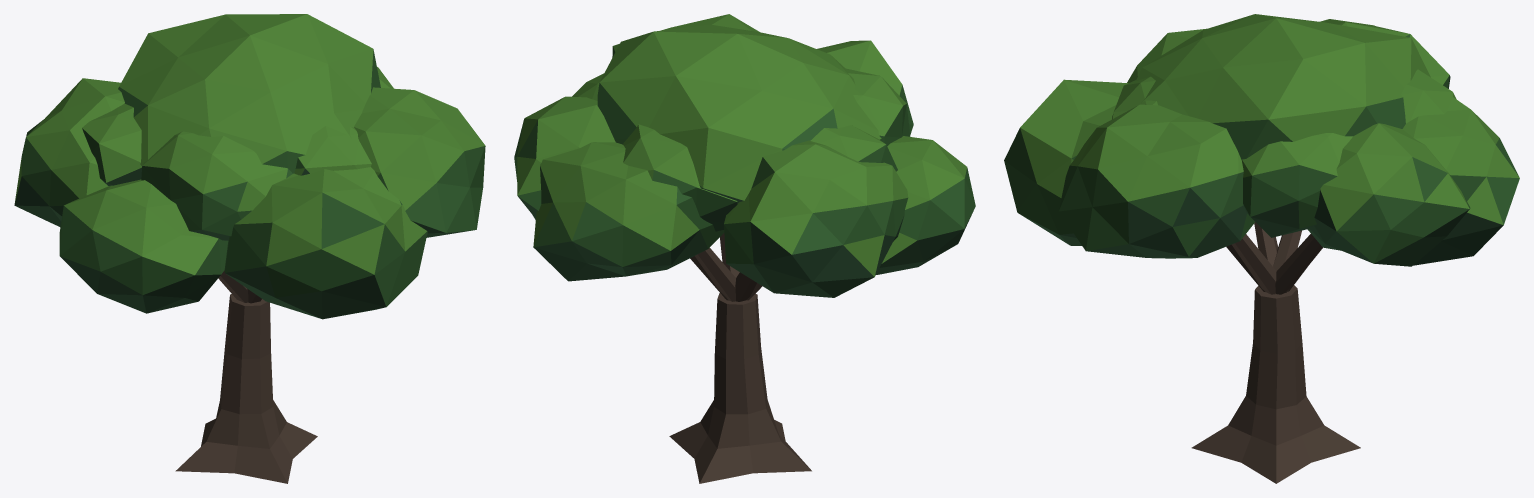
File: T14_OldButtressTree.glb
3 renders of one model, left to right at view 1: azimuth 30°, elevation 25°; view 2: azimuth 150°, elevation 25°; view 3: azimuth 270°, elevation 25°, orthographic. The views are drawn at different scales.
Visible parts, largest first — view 1: T14_OldButtressTree; view 2: T14_OldButtressTree; view 3: T14_OldButtressTree.
Part boxes in pixels (bbox=[...]): T14_OldButtressTree: bbox=[14, 14, 485, 483]; T14_OldButtressTree: bbox=[514, 14, 975, 483]; T14_OldButtressTree: bbox=[1004, 14, 1519, 483].
Bounding box in the file's own units: 9.05 × 9.54 × 10.34.
